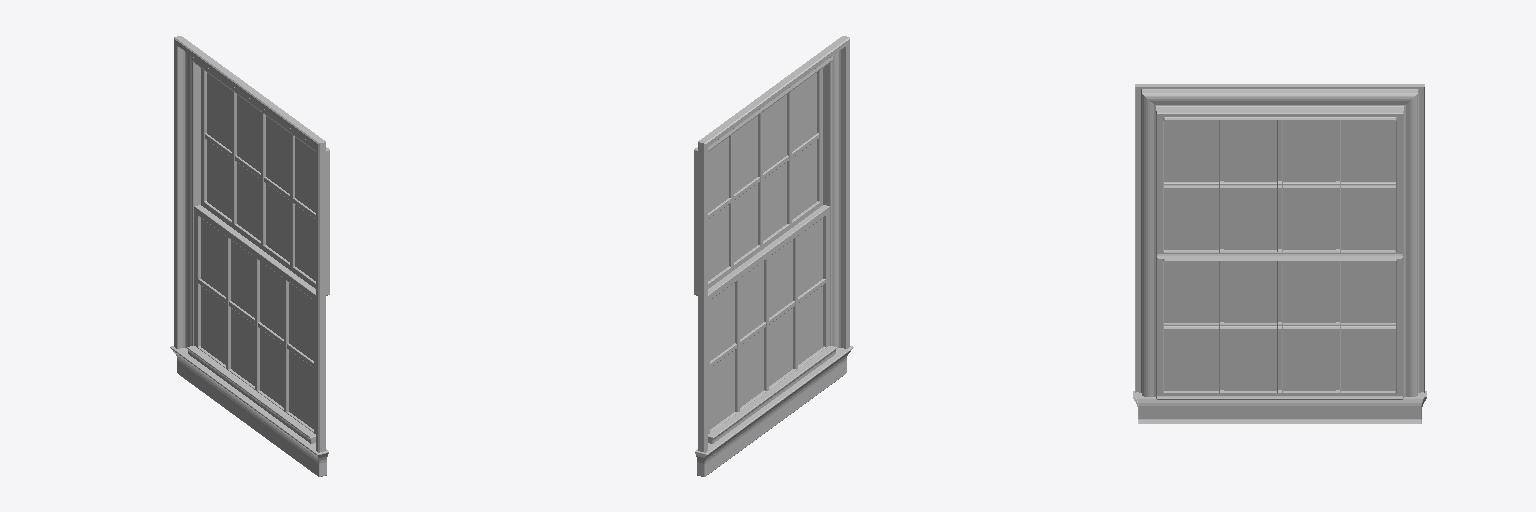
The model's file is window.obj.
The picture shows the model from 3 angles: view 1: azimuth 30°, elevation 25°; view 2: azimuth 150°, elevation 25°; view 3: azimuth 270°, elevation 25°; orthographic projection.
Parts seen in each view (by area): view 1: window_Cube.004; view 2: window_Cube.004; view 3: window_Cube.004.
Boxes of the visible parts, box(x1,y1,x2,y2) form: window_Cube.004: box(170, 36, 329, 476); window_Cube.004: box(694, 36, 853, 476); window_Cube.004: box(1133, 84, 1426, 423).
Bounding box in the file's own units: 0.2054 × 2.6 × 2.07.